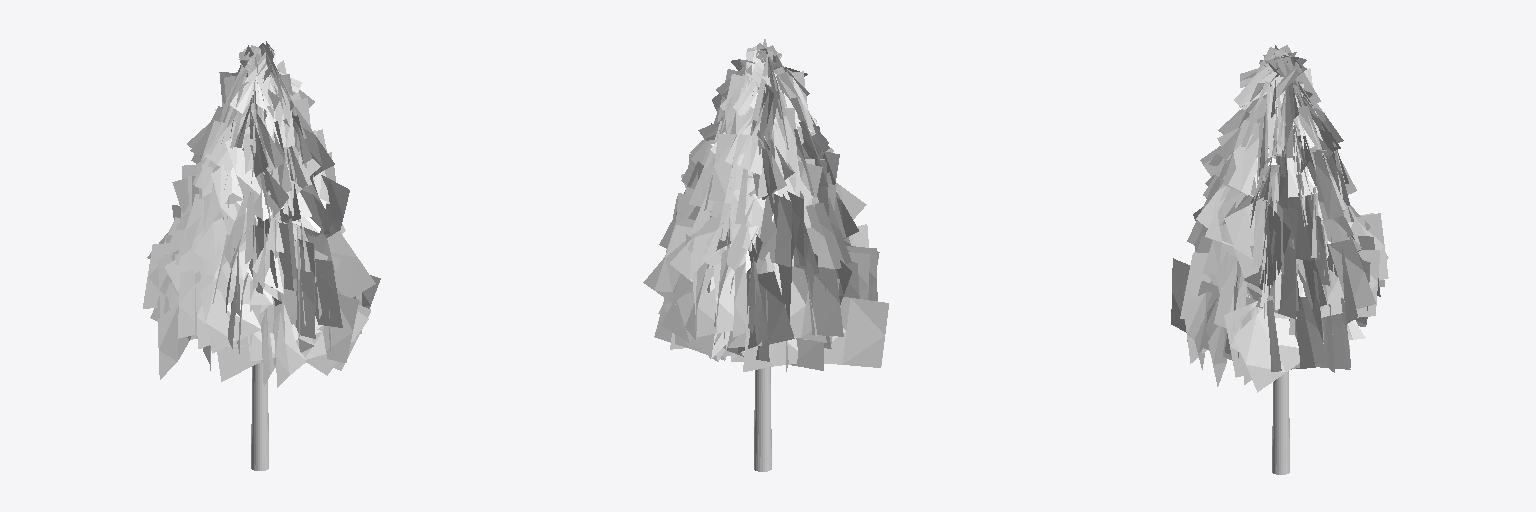
Rendered from Balsam_Fir_Model_0.obj.
3 renders of one model, left to right at view 1: azimuth 30°, elevation 25°; view 2: azimuth 150°, elevation 25°; view 3: azimuth 270°, elevation 25°, orthographic.
Parts seen in each view (by area): view 1: Foliage, Bark; view 2: Foliage, Bark; view 3: Foliage, Bark.
Boxes of the visible parts, <box> form: Foliage: <box>143,41,380,387</box>; Bark: <box>251,363,268,470</box>; Foliage: <box>643,39,888,371</box>; Bark: <box>754,367,771,471</box>; Foliage: <box>1171,45,1388,392</box>; Bark: <box>1272,371,1289,474</box>.
Size of the model in its own units: 8.1 by 15 by 6.95.